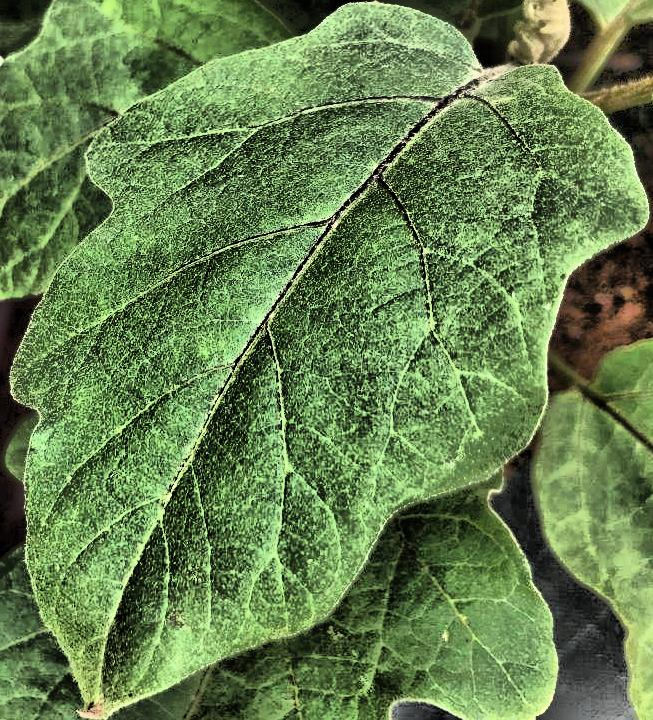HEALTHY: (1, 0, 653, 720)
